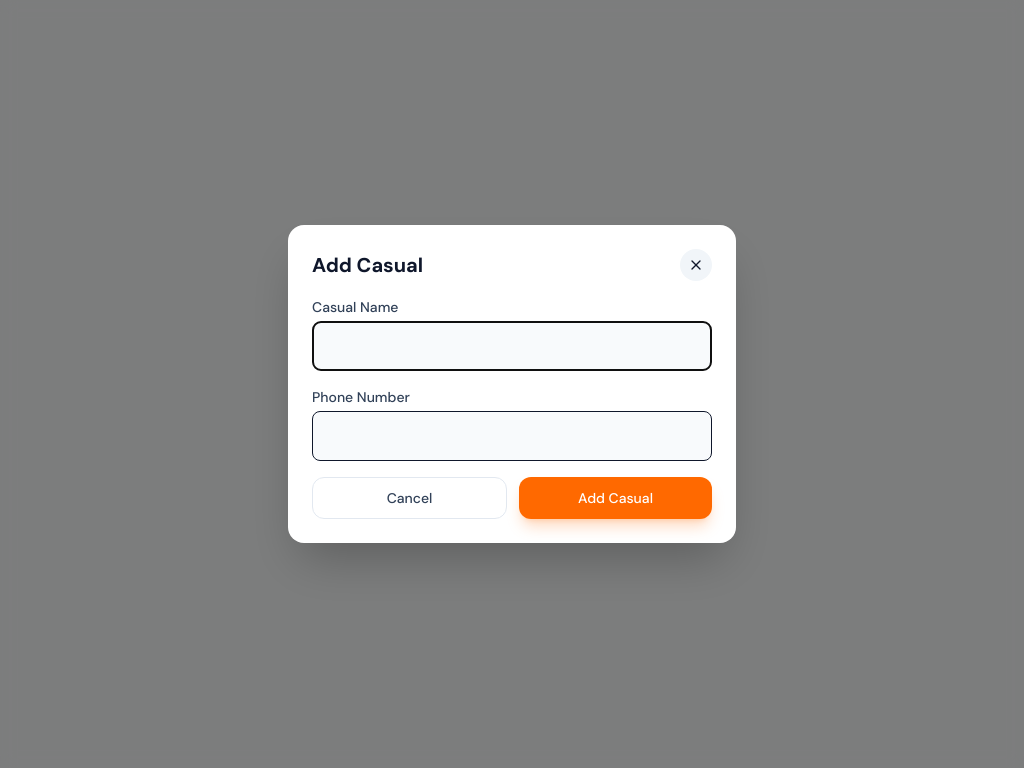
it: AddCasualModal › validation › shows error when name is too short
The width and height of the screenshot is (1024, 768).
Type "A" into the field labelled "Casual Name" at (512, 346), box [312,321,712,371]
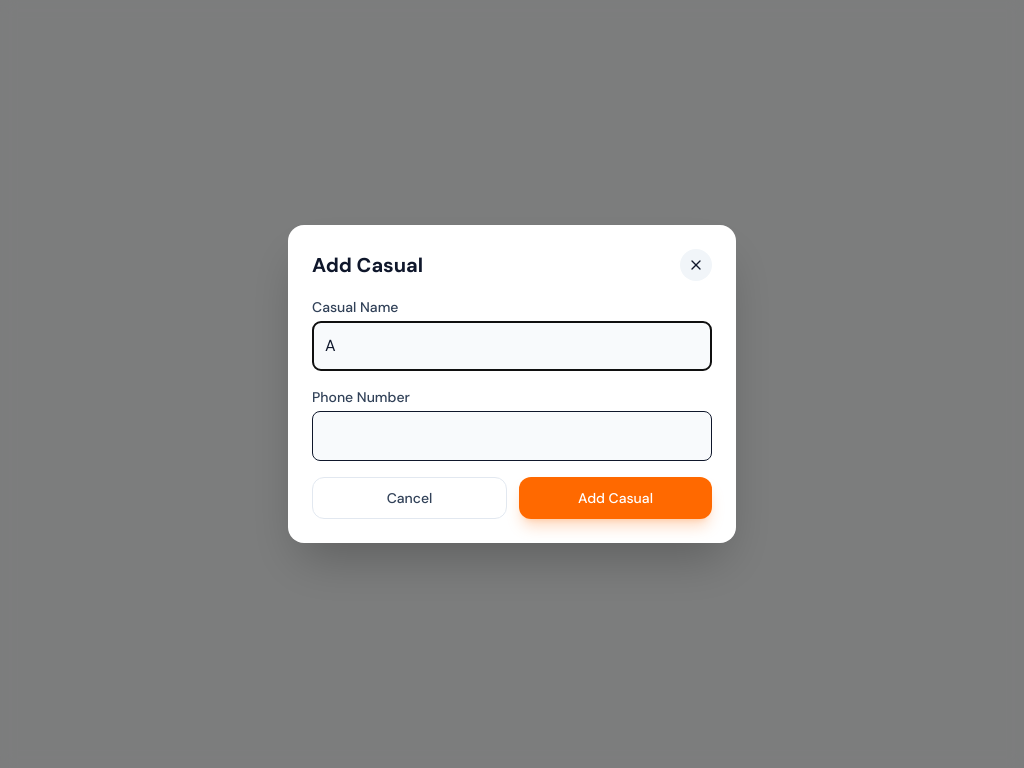
Type "0412345678" into the field labelled "Phone Number" at (512, 436), box [312,411,712,461]
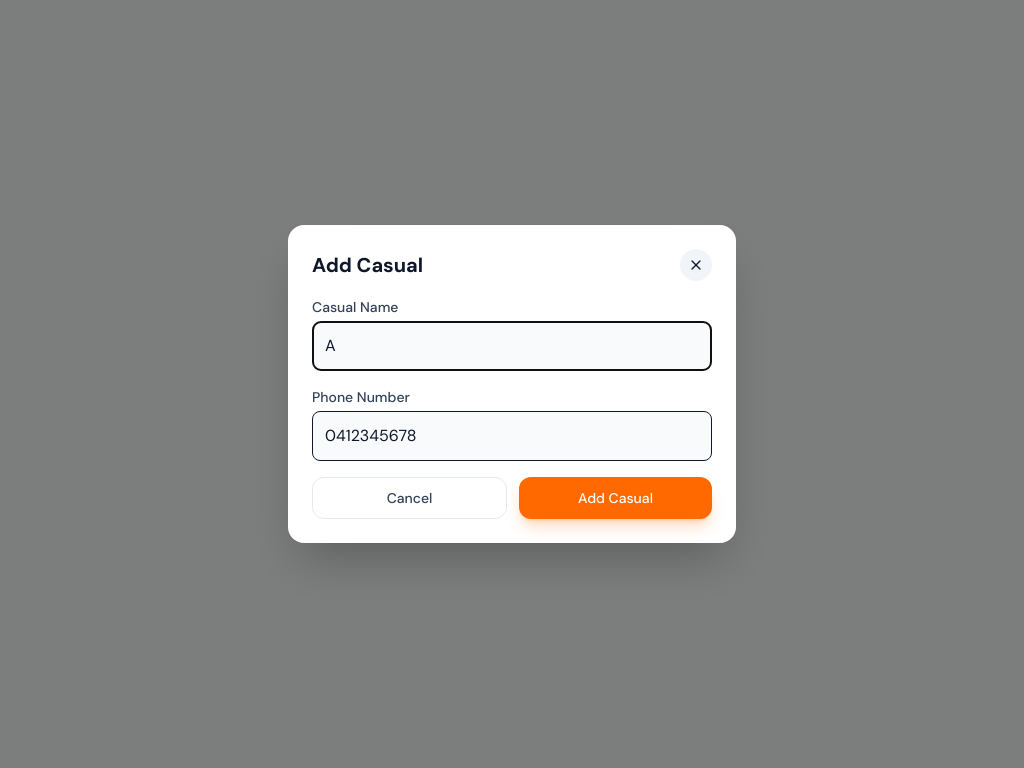
Click the button "Add Casual" at (616, 498), box [519,477,712,519]
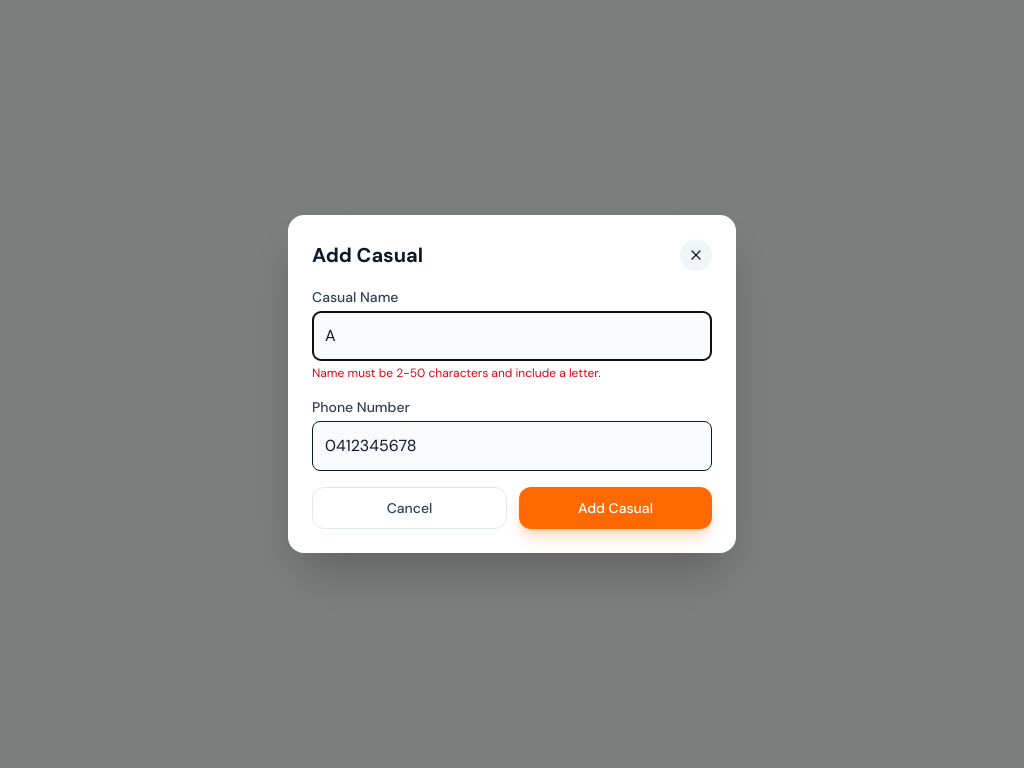
Now the text "Name must be 2-50 characters and include a letter." is shown, box [312,365,601,381]
